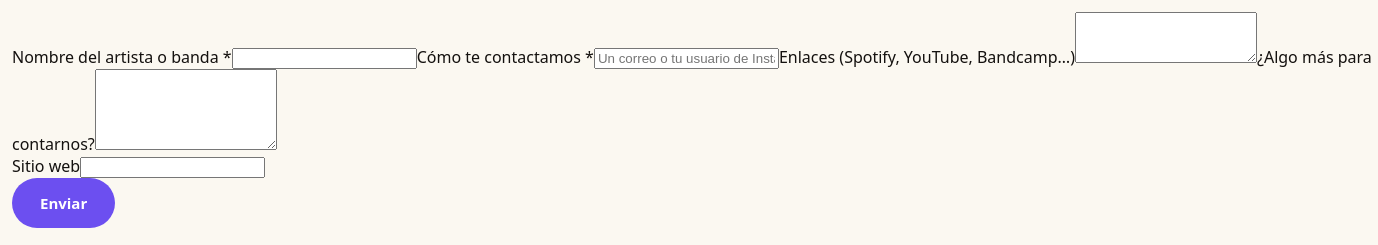
Scenario: FormularioDeReporte: sumar un artista › pide nombre y cómo contactarte, con enlaces y un mensaje opcionales
In the field labelled "Nombre del artista o banda *": (324, 58) [232, 48, 417, 69], type "Los Nadie"
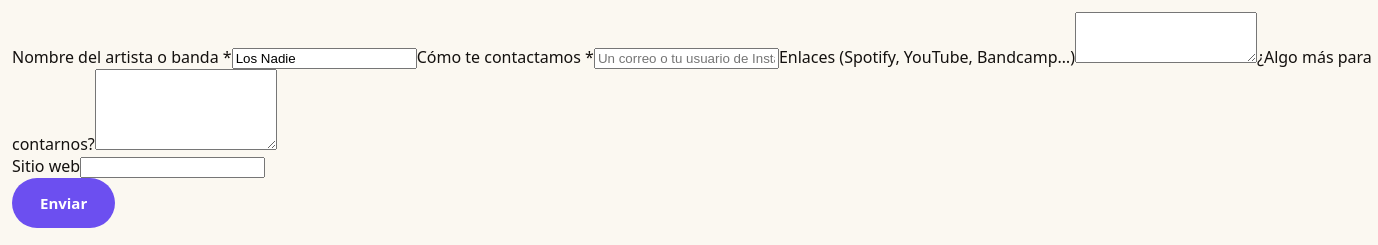
In the field labelled "Cómo te contactamos *": (686, 58) [594, 48, 779, 69], type "@losnadie"
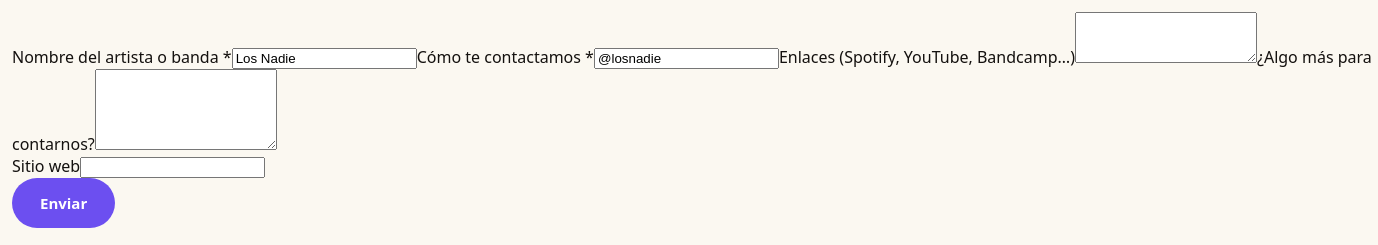
In the text box labelled "Enlaces (Spotify, YouTube, Bandcamp…)": (1166, 38) [1075, 12, 1257, 63], type "https://open.spotify.com/artist/xyz"
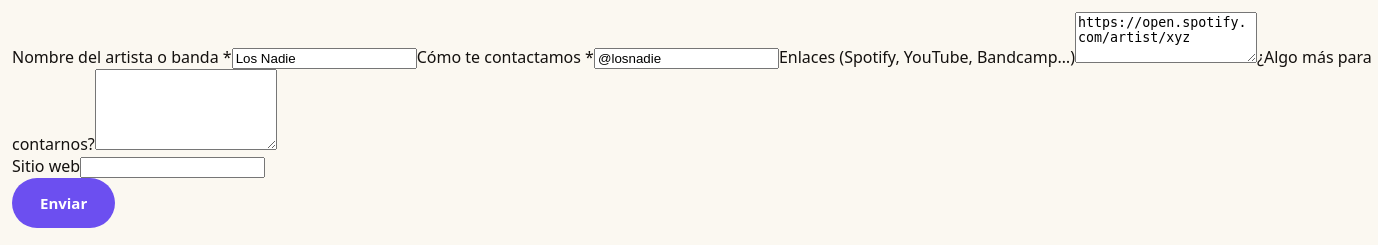
Click the button "Enviar": (64, 203) [12, 178, 115, 228]
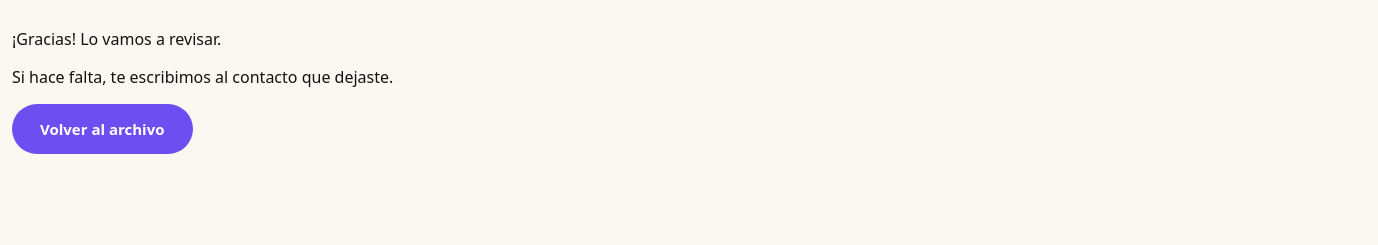
Now the text "¡Gracias! Lo vamos a revisar." is shown, box [12, 28, 221, 50]
